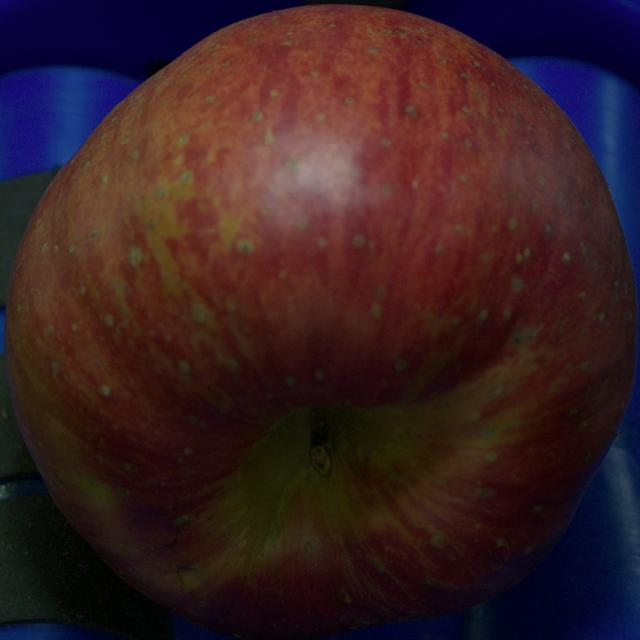apple: (5, 6, 637, 639)
pest: (174, 515, 193, 526), (306, 541, 312, 552)
scratch: (158, 526, 181, 549), (177, 567, 197, 578)
